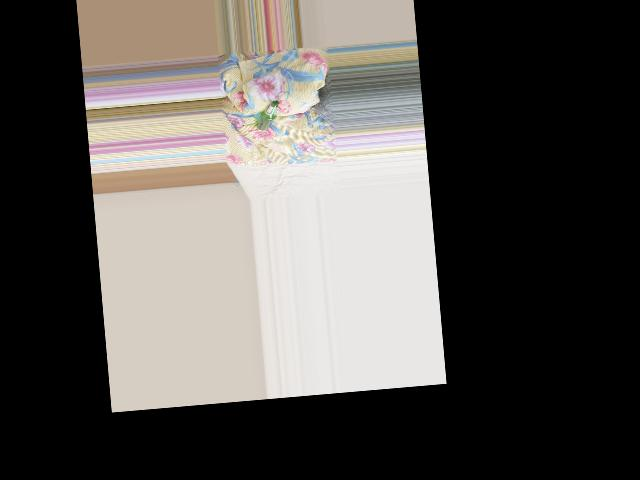beer: (254, 99, 280, 130)
